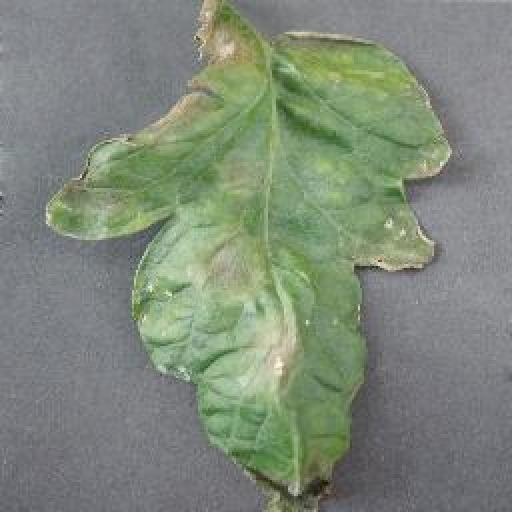disease_tomato: (44, 0, 458, 512)
